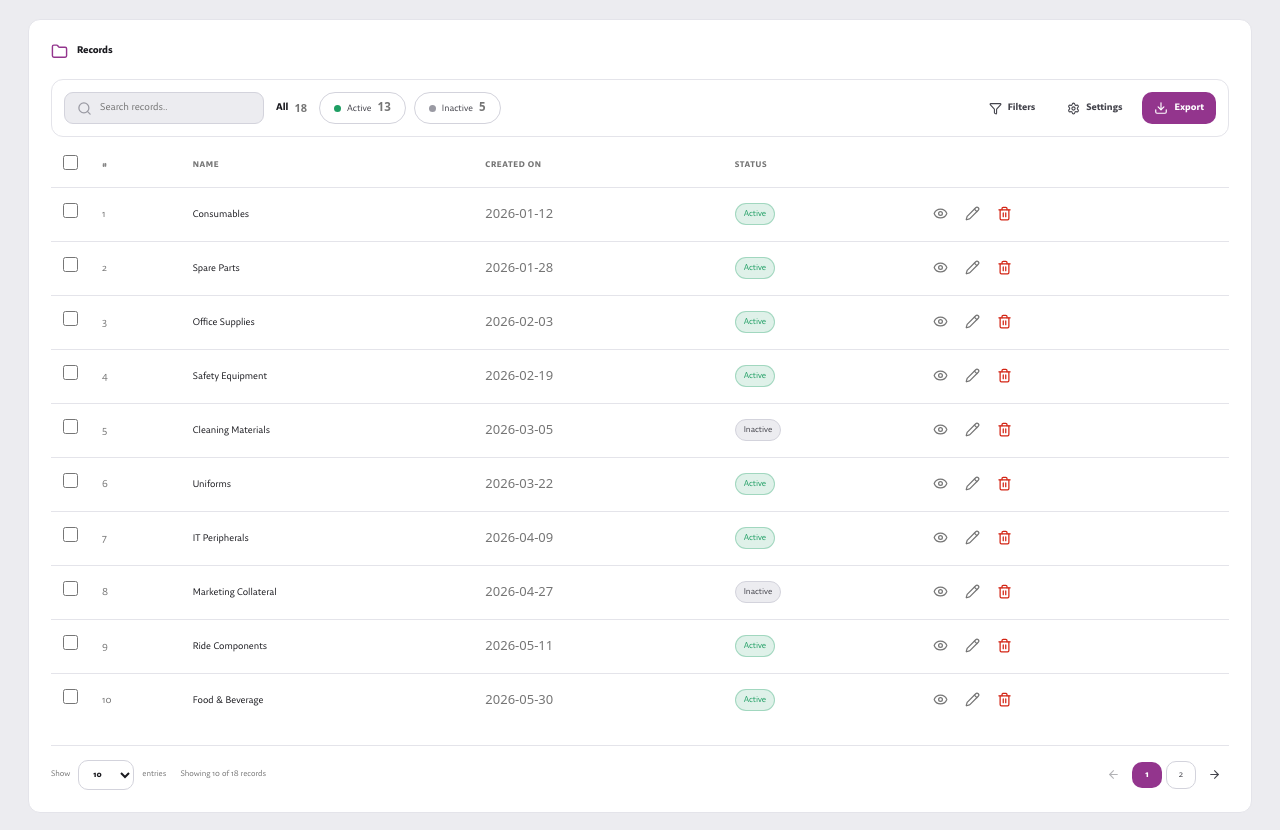
Test: MasterPage — Project Category Master (pc mode) › supports the Show-N-entries picker and functional pagination
Select "25" in the dropdown named "Entries per page". click: (106, 775)
box: [78,760,134,790]
(page scrolled)
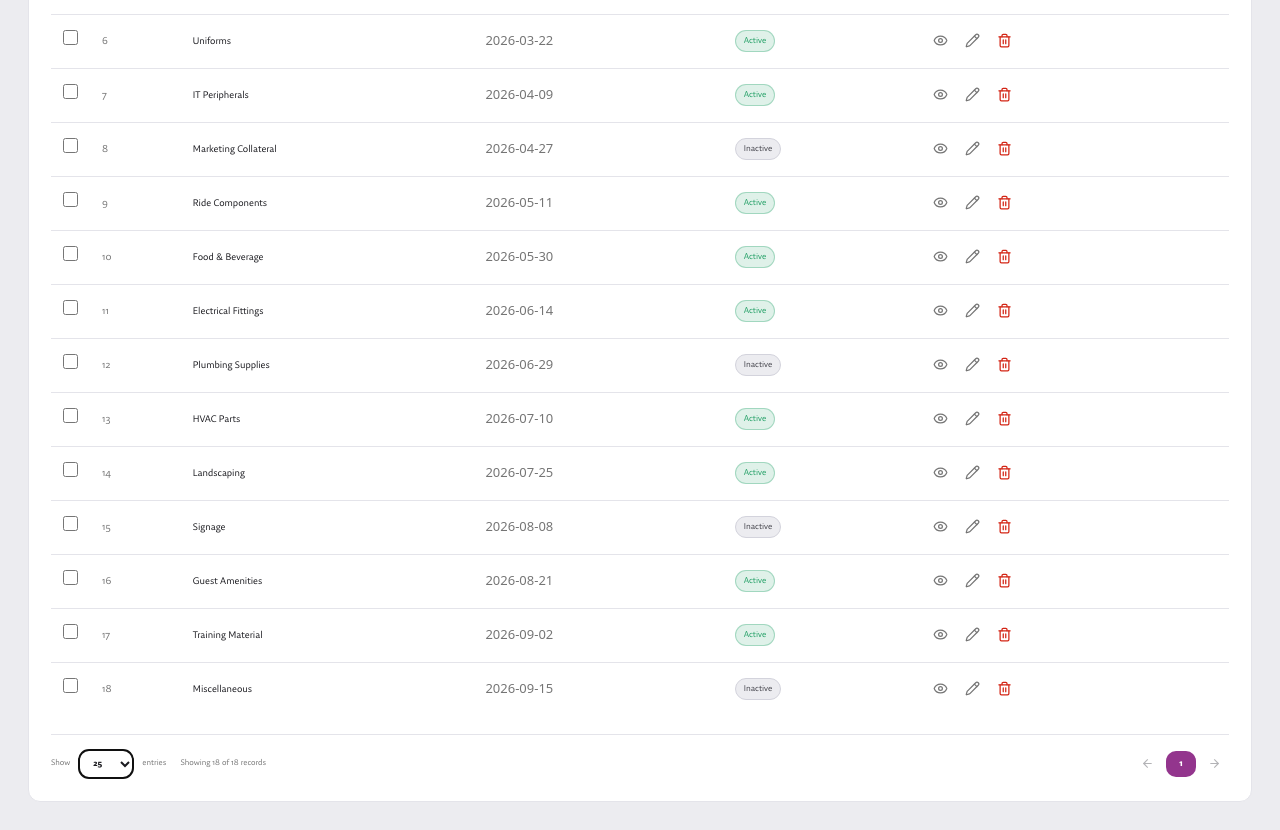
Expected: the text "Showing 18 of 18 records" is shown, [180,756,266,772]
Select "10" in the dropdown named "Entries per page". click: (106, 764)
box: [78,749,134,779]
(page scrolled)
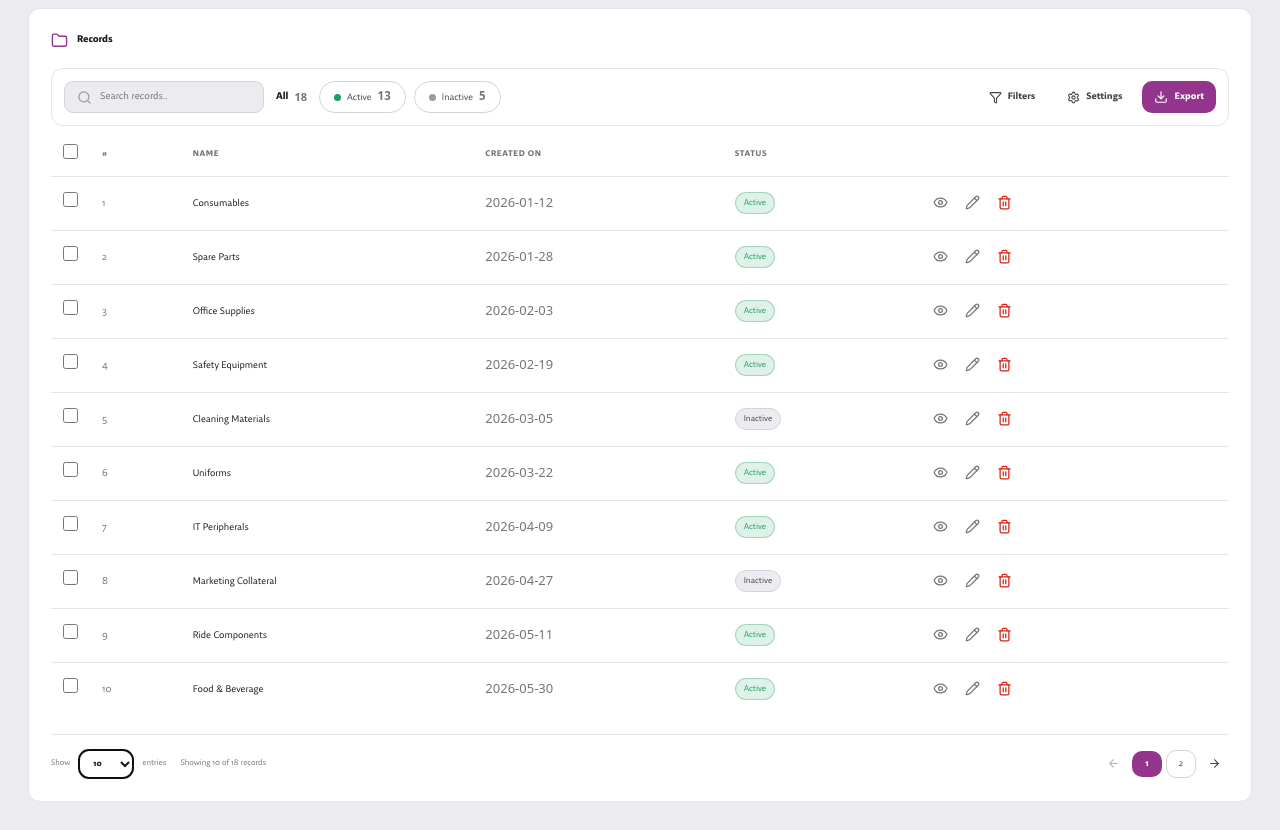
Click the button named "Next". click: (1214, 764)
box: [1200,753,1229,774]
(page scrolled)
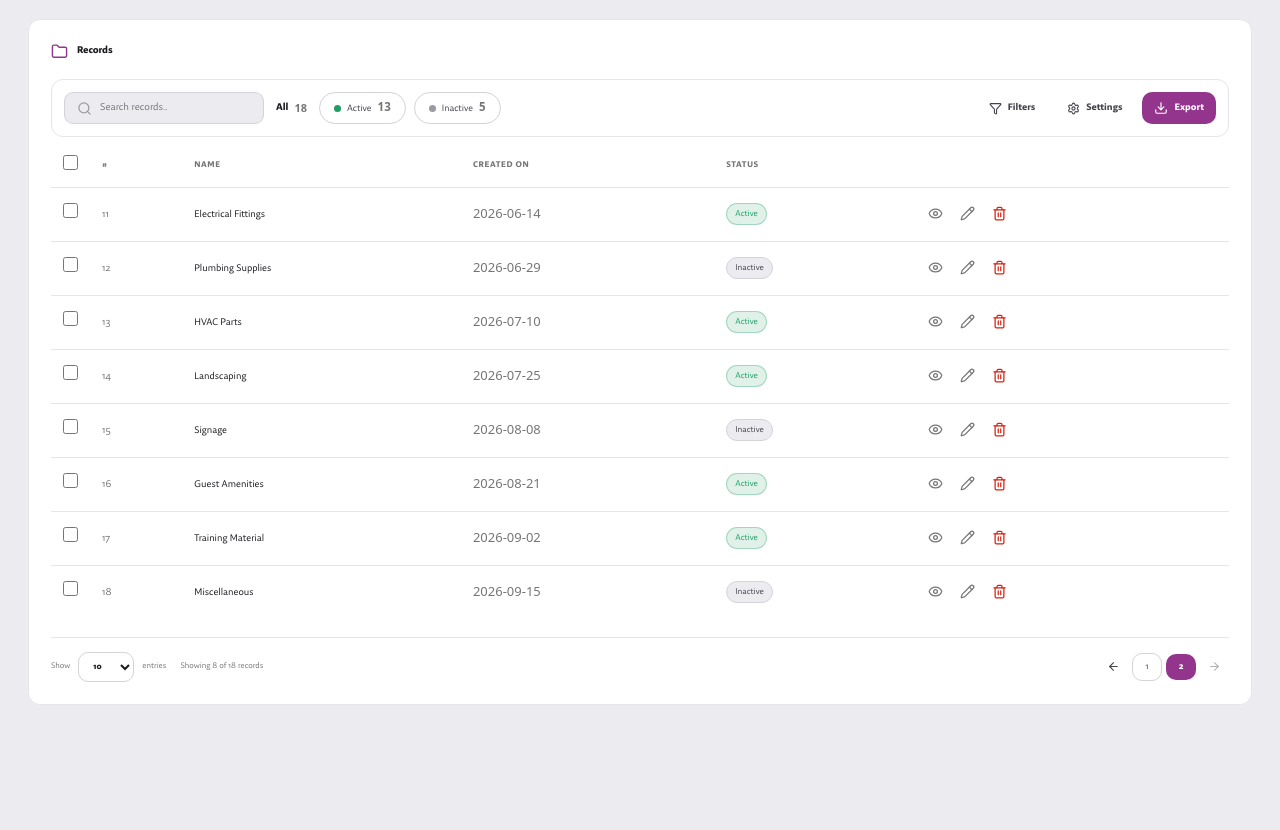
Expected: the button named "Previous" is enabled, [1099,656,1128,677]
Expected: the button named "Next" is disabled, [1200,656,1229,677]
